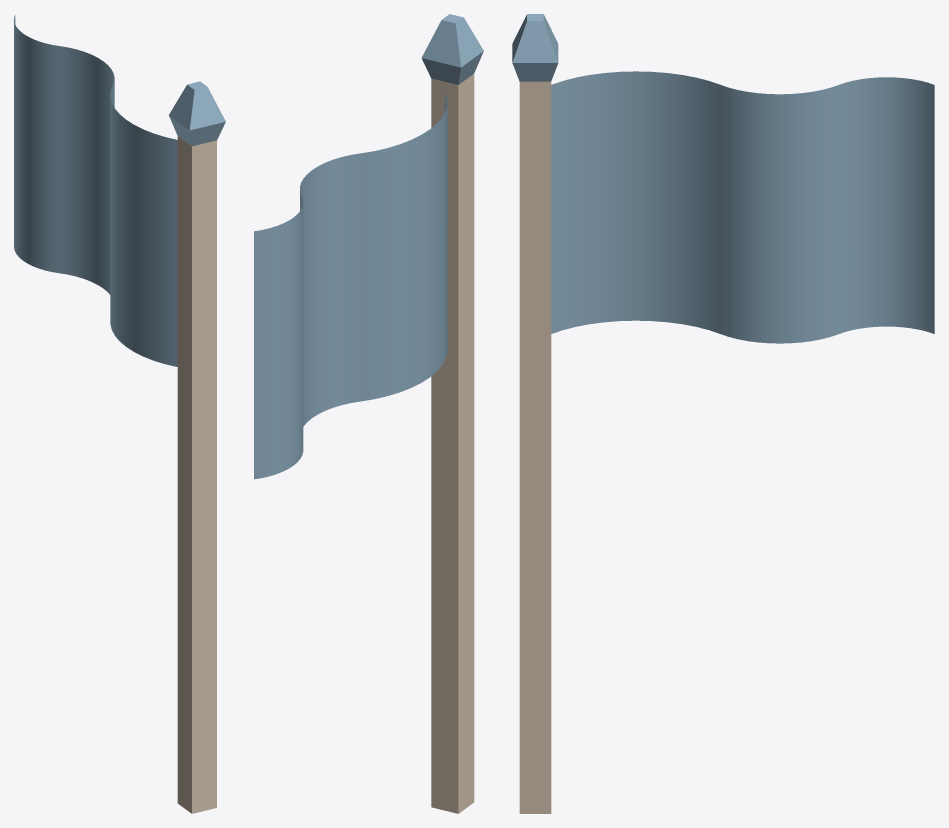
File: flagBlueWide.glb
The picture shows the model from 3 angles, left to right: view 1: azimuth 30°, elevation 25°; view 2: azimuth 150°, elevation 25°; view 3: azimuth 270°, elevation 25°; orthographic projection. The views are drawn at different scales.
Visible parts, largest first — view 1: flagBlueWide; view 2: flagBlueWide; view 3: flagBlueWide.
Part boxes in pixels (x1,y1,x2,y2): flagBlueWide: [14, 15, 225, 813]; flagBlueWide: [254, 14, 483, 813]; flagBlueWide: [512, 14, 934, 813].
Bounding box in the file's own units: 0.4988 × 7.92 × 3.84.
